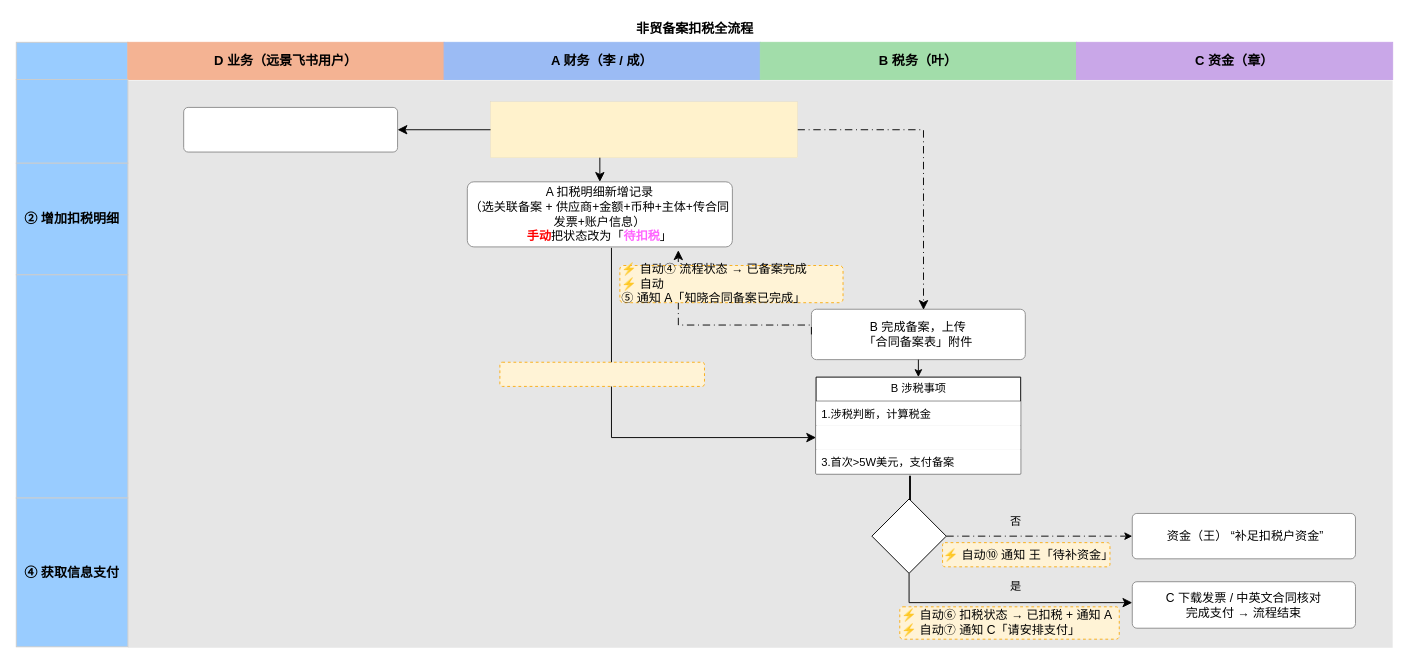
The diagram is 1409 pixels wide and 663 high, and some of its shapes have lost their labels. Each missing label, with the centre of its shape:
"2.税务系统扣税，上传完税凭证" belongs at point (918, 437).
"D 提交备案收集表单 （供应商 + 合同 + 金额 + 服务内容）" belongs at point (290, 129).
"① 填写备案信息表" belongs at point (71, 121).
"③ 合同备案 支付备案 涉税判断 扣税" belongs at point (71, 386).
"⚡ 自动 ③ 通知 B「扣税待办理」" belongs at point (601, 373).
"⚡ 自动① 通知 A+B（李 / 叶 / 成） ⚡ 自动② 名录同步（新供应商自动写入名录） ⚡ 自动 ⑧⑨ 如需补正信息自动通知D修改提交和反馈" belongs at point (643, 129).
"步骤" belongs at point (71, 60).
"资金充足" belongs at point (908, 535).
